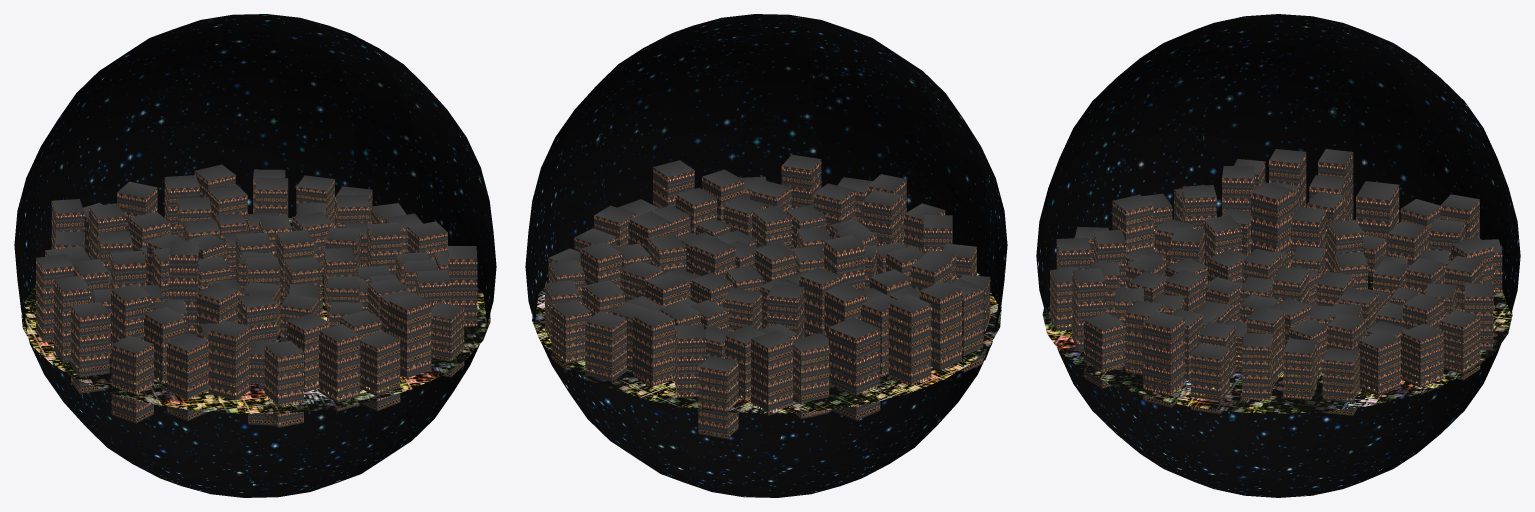
The model's file is FinalKingBeyondSky.fbx.
3 views of the same model, side by side, from view 1: azimuth 30°, elevation 25°; view 2: azimuth 150°, elevation 25°; view 3: azimuth 270°, elevation 25° (orthographic).
Parts seen in each view (by area): view 1: mesh-0, Plane.004, Circle.001; view 2: mesh-0, Plane.004, Circle.001; view 3: mesh-0, Plane.004, Circle.001.
Boxes of the visible parts, x1,y1,x2,y2 form: mesh-0: (14,14,496,497); Plane.004: (36,164,477,427); Circle.001: (21,217,490,413); mesh-0: (525,14,1007,497); Plane.004: (545,154,990,439); Circle.001: (532,229,1001,413); mesh-0: (1036,14,1520,497); Plane.004: (1050,149,1502,415); Circle.001: (1042,250,1512,413).
Size of the model in its own units: 5.98e+07 by 5.98e+07 by 5.98e+07.
